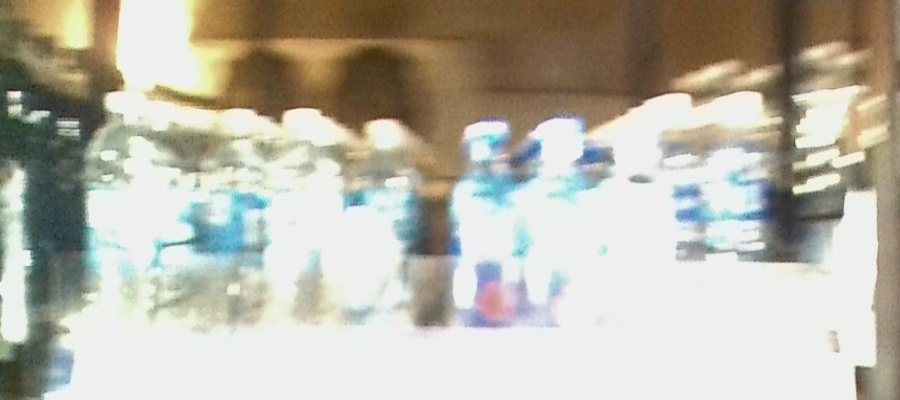bottle: (87, 89, 153, 330), (452, 118, 518, 345), (521, 120, 585, 346), (351, 115, 414, 334), (203, 106, 262, 336)
